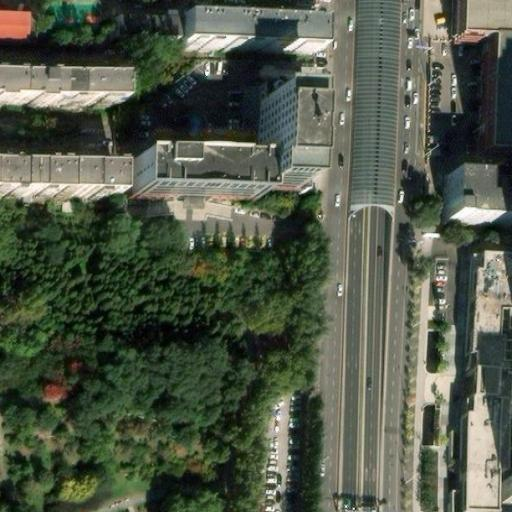building: (464, 249, 512, 509), (141, 159, 266, 201), (182, 22, 324, 58), (0, 67, 137, 104), (0, 163, 116, 200), (265, 100, 307, 186), (483, 38, 512, 155), (443, 175, 512, 222), (452, 0, 512, 39), (116, 10, 178, 38), (452, 488, 488, 512)
